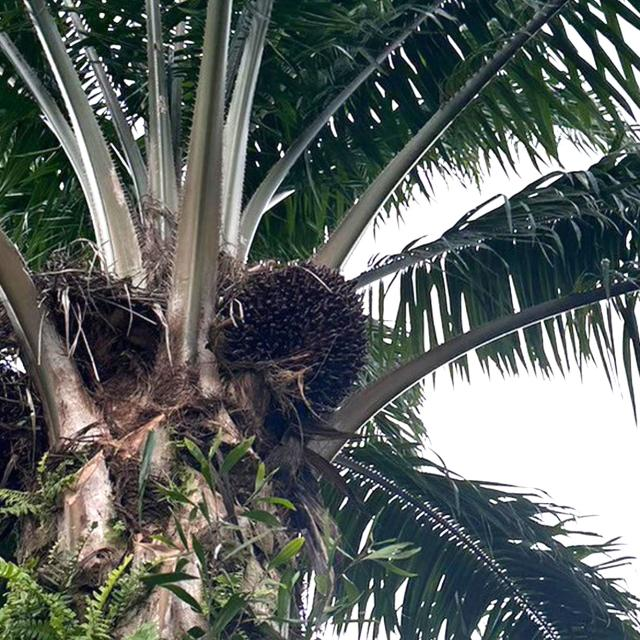ripe: (208, 242, 382, 426)
